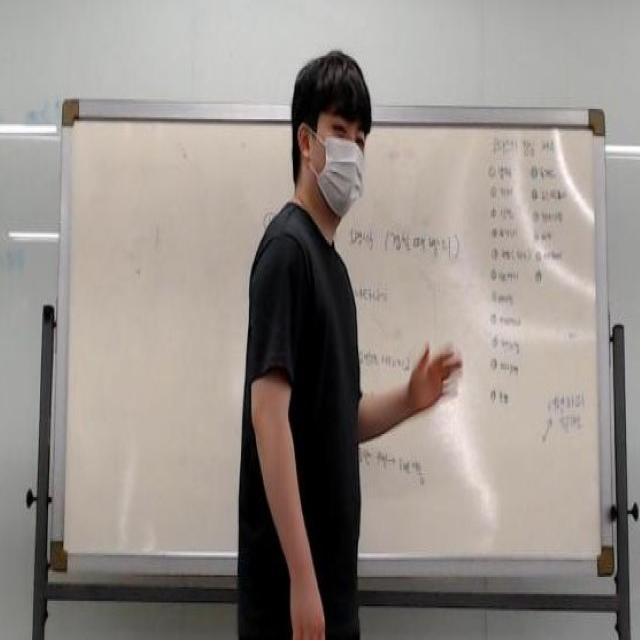Instructor: (236, 44, 380, 628)
White-board: (58, 106, 606, 568)
